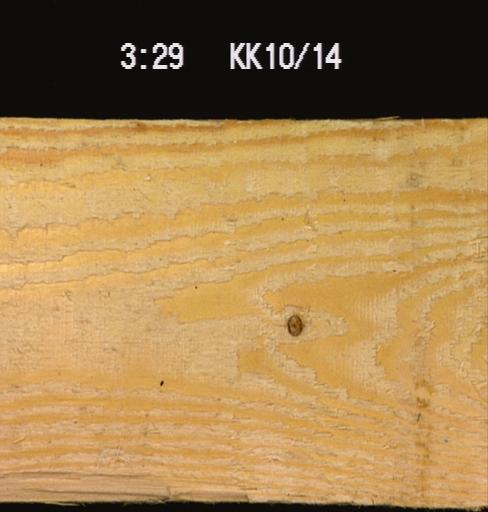dry_knot: (283, 309, 304, 339)
wave: (53, 477, 259, 510)
